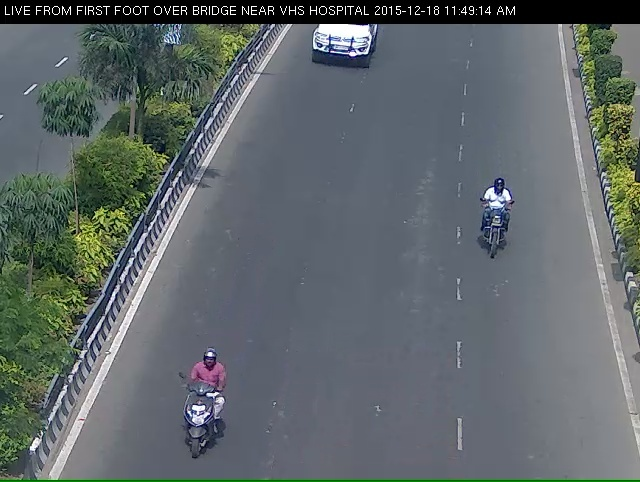Car: (300, 24, 385, 78)
Person: (159, 375, 217, 479), (478, 186, 518, 282)
